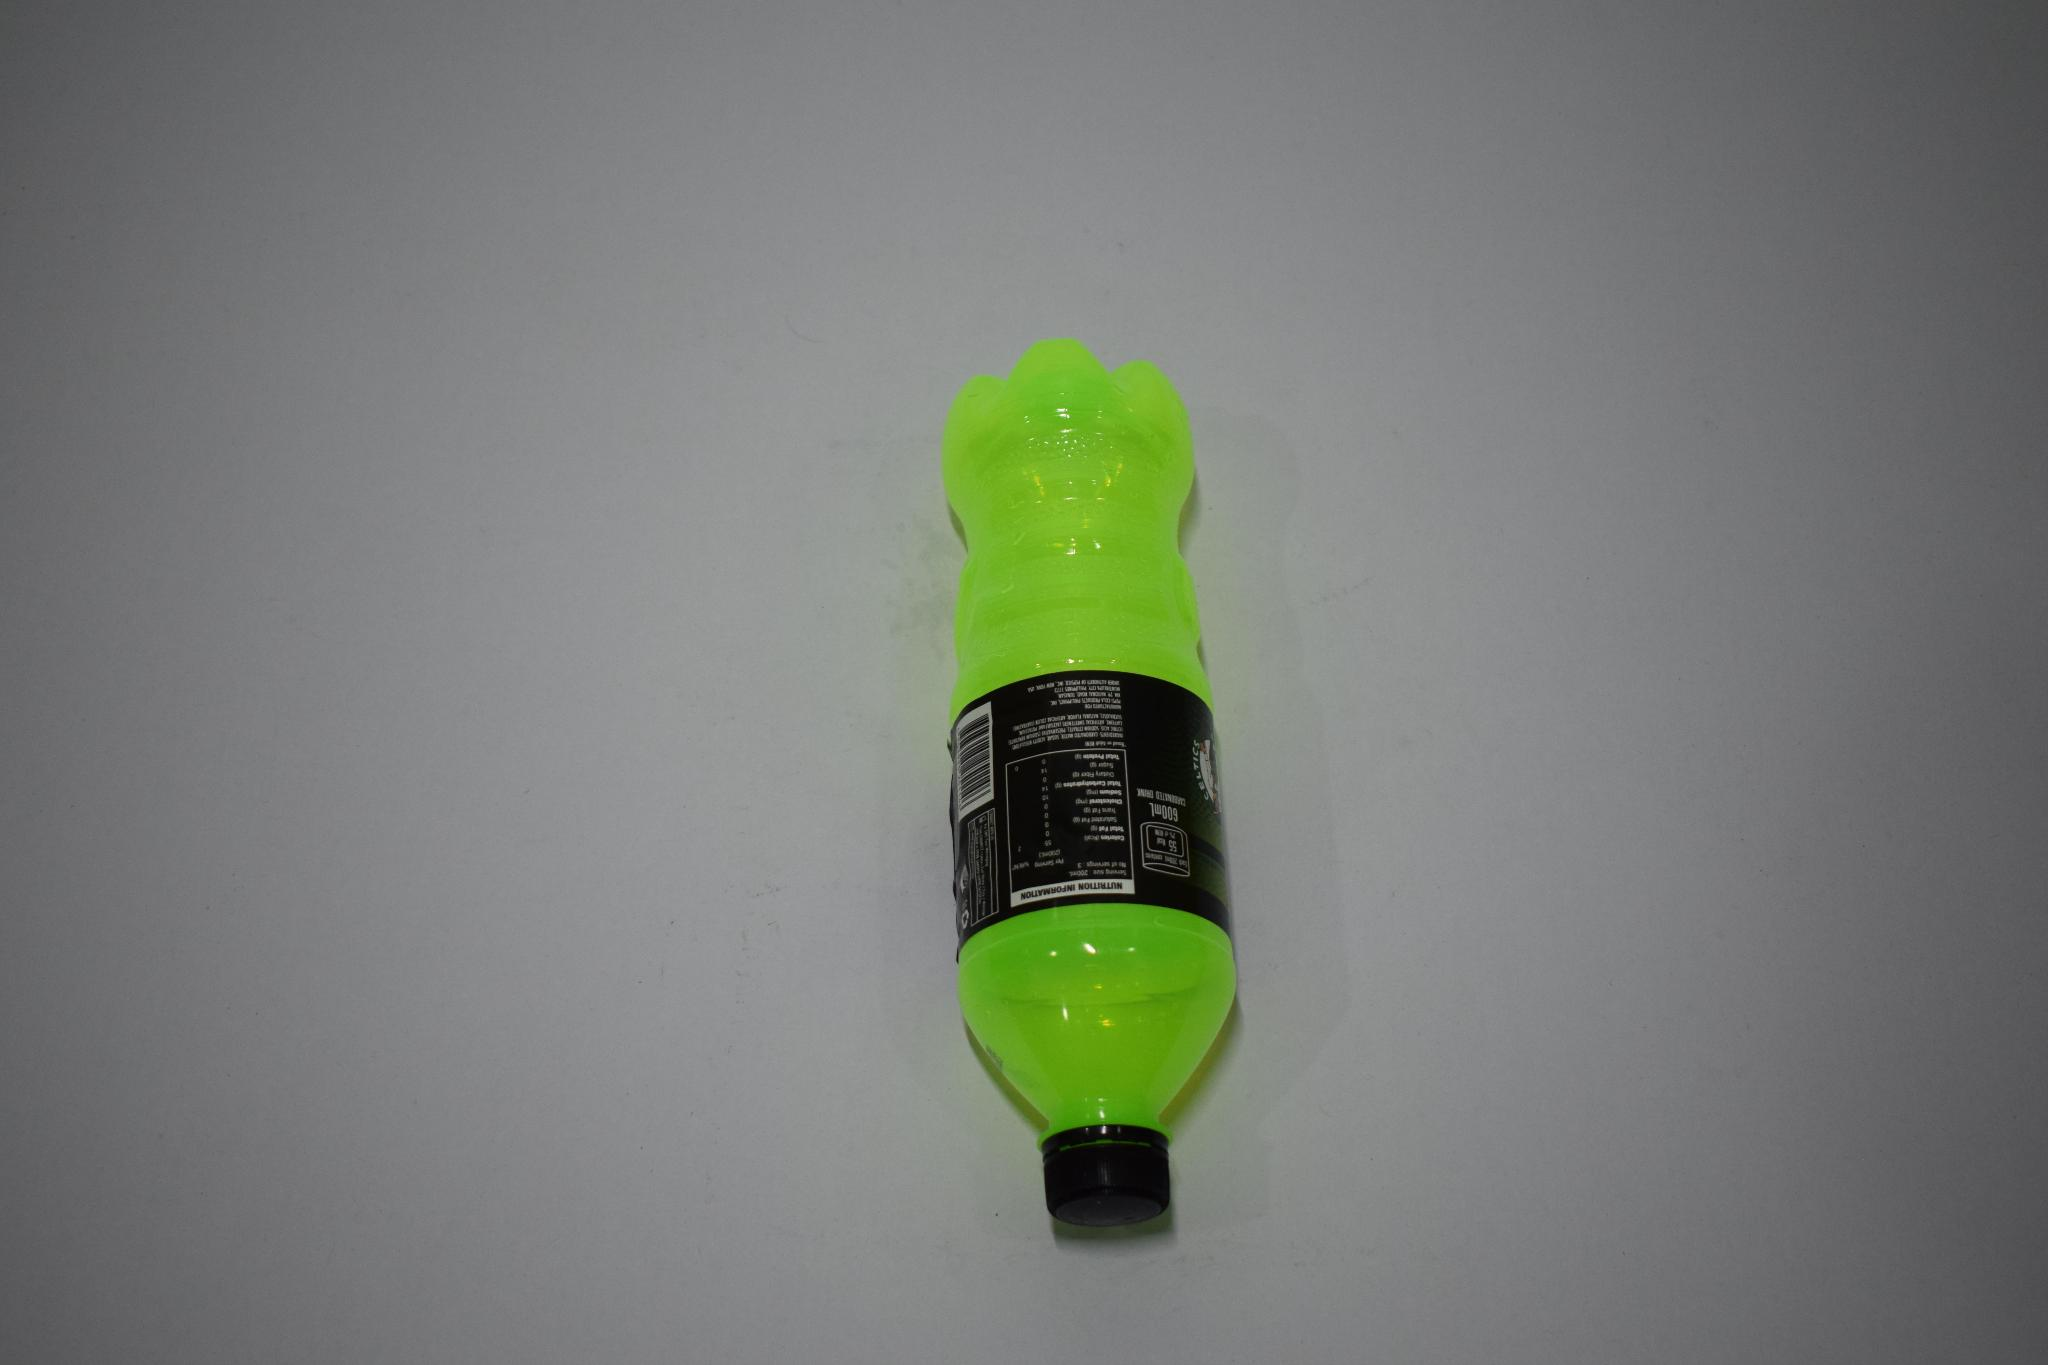bottle: (933, 332, 1243, 1245)
